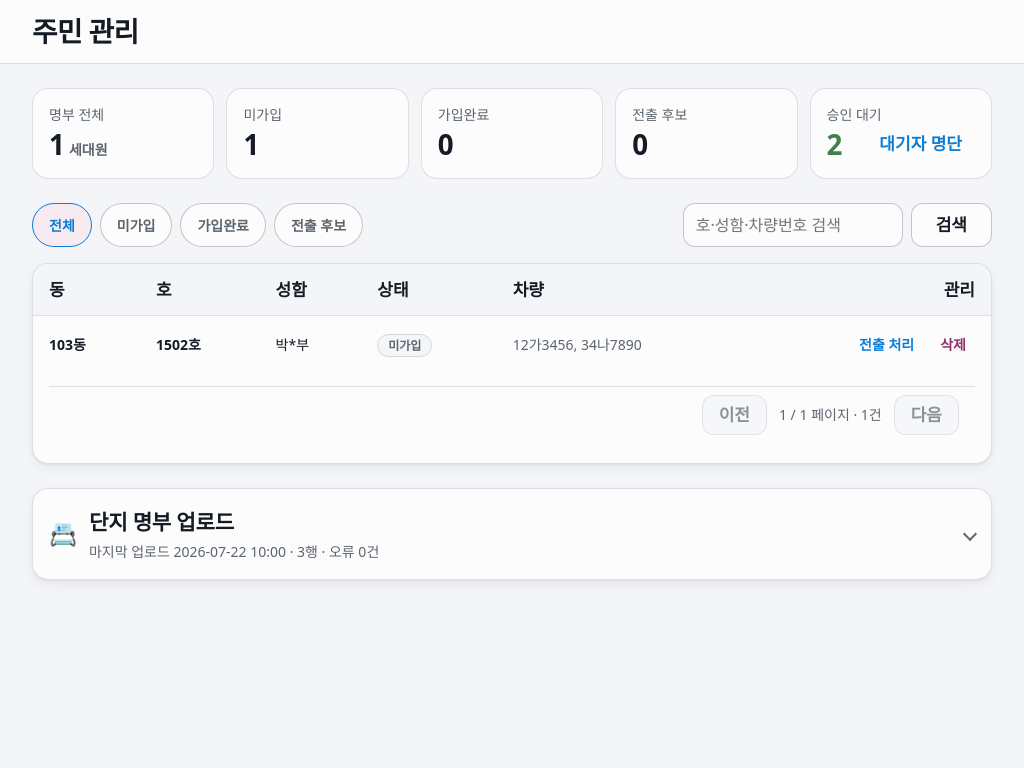
Test: Approvals › 승인하면 목록에서 사라지고 대기 건수가 준다
Click the button "대기자 명단".
click(921, 143)  # box [866,127,975,159]
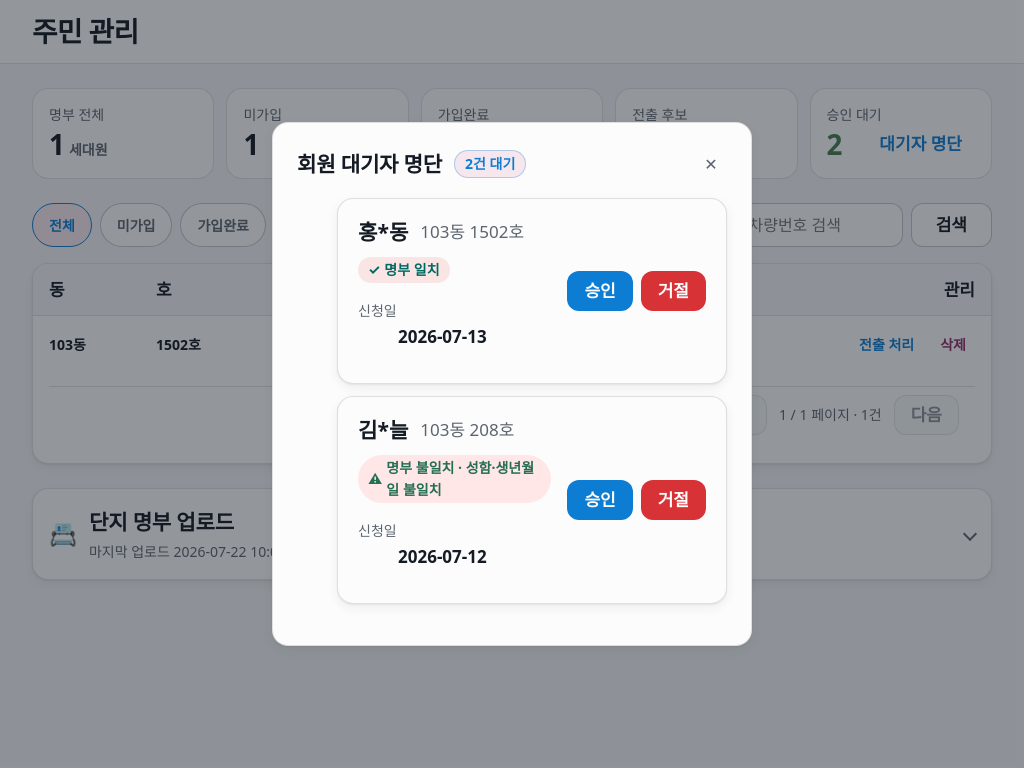
Expected: the text "홍*동" is shown, [358,215,408,249]
Expected: the text with class "apv-count" reads "2건 대기", [454,150,526,178]
Click the button "승인" below "홍*동".
click(600, 291)  # box [567,271,633,311]
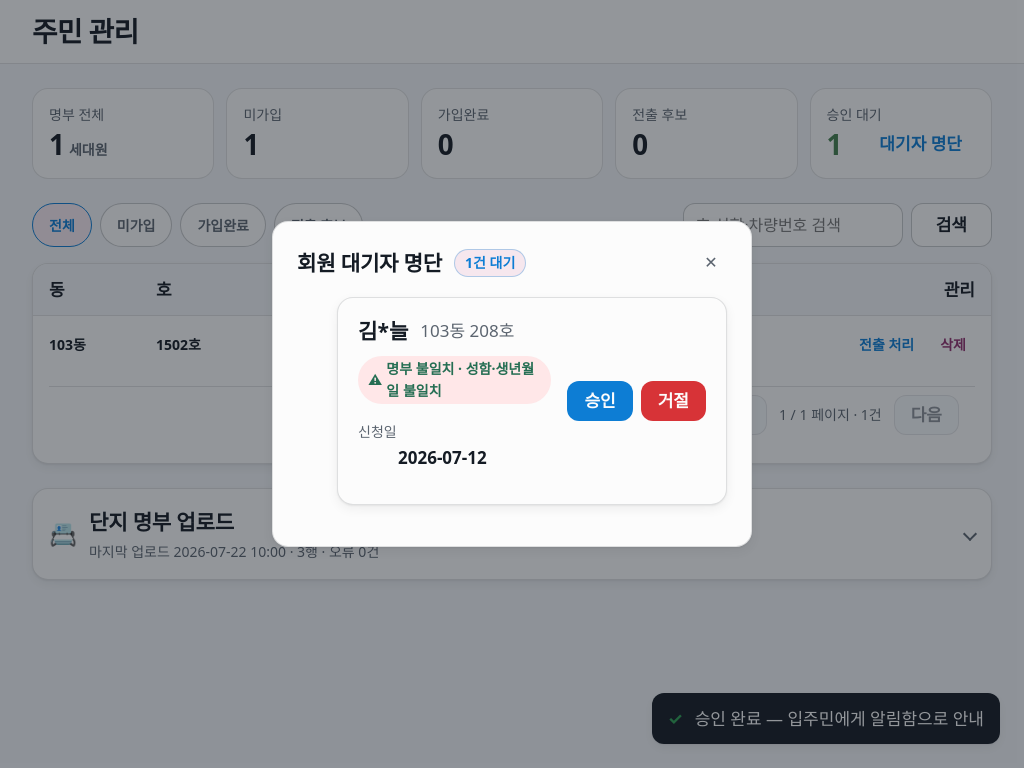
Expected: the text with class "apv-count" reads "1건 대기", [454,249,526,277]
